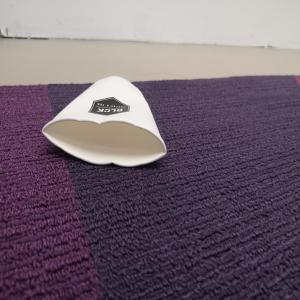Cup: (42, 76, 168, 169)
